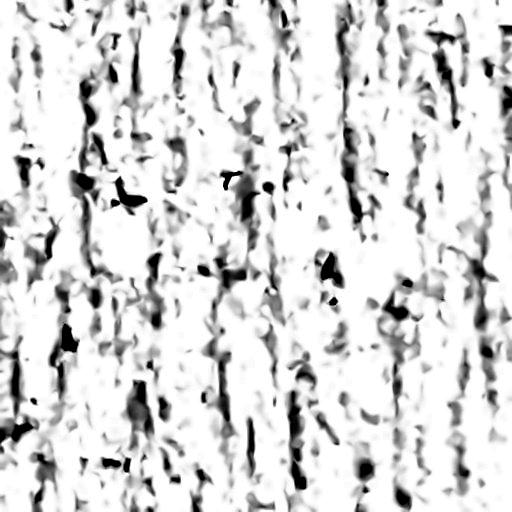egg: (113, 177, 146, 205), (62, 324, 76, 351), (322, 253, 332, 279)
